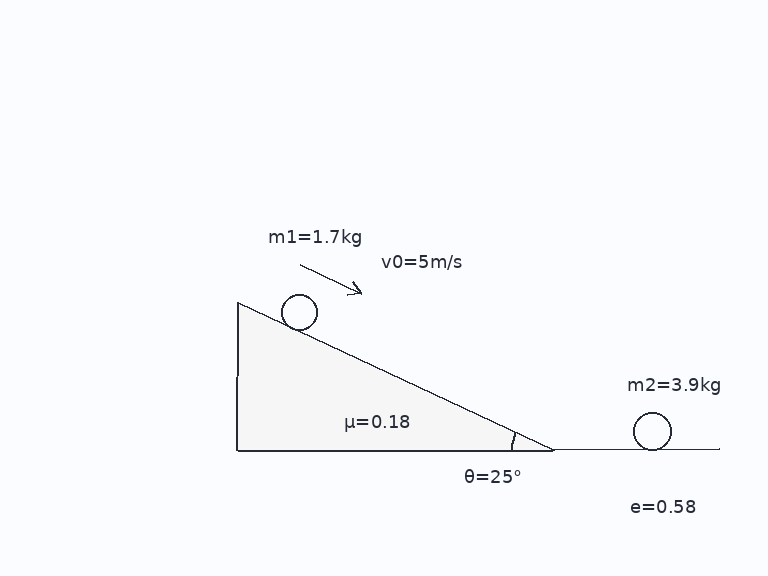ball: (631, 410, 673, 452), (279, 292, 319, 332)
ramp: (236, 301, 554, 452)
